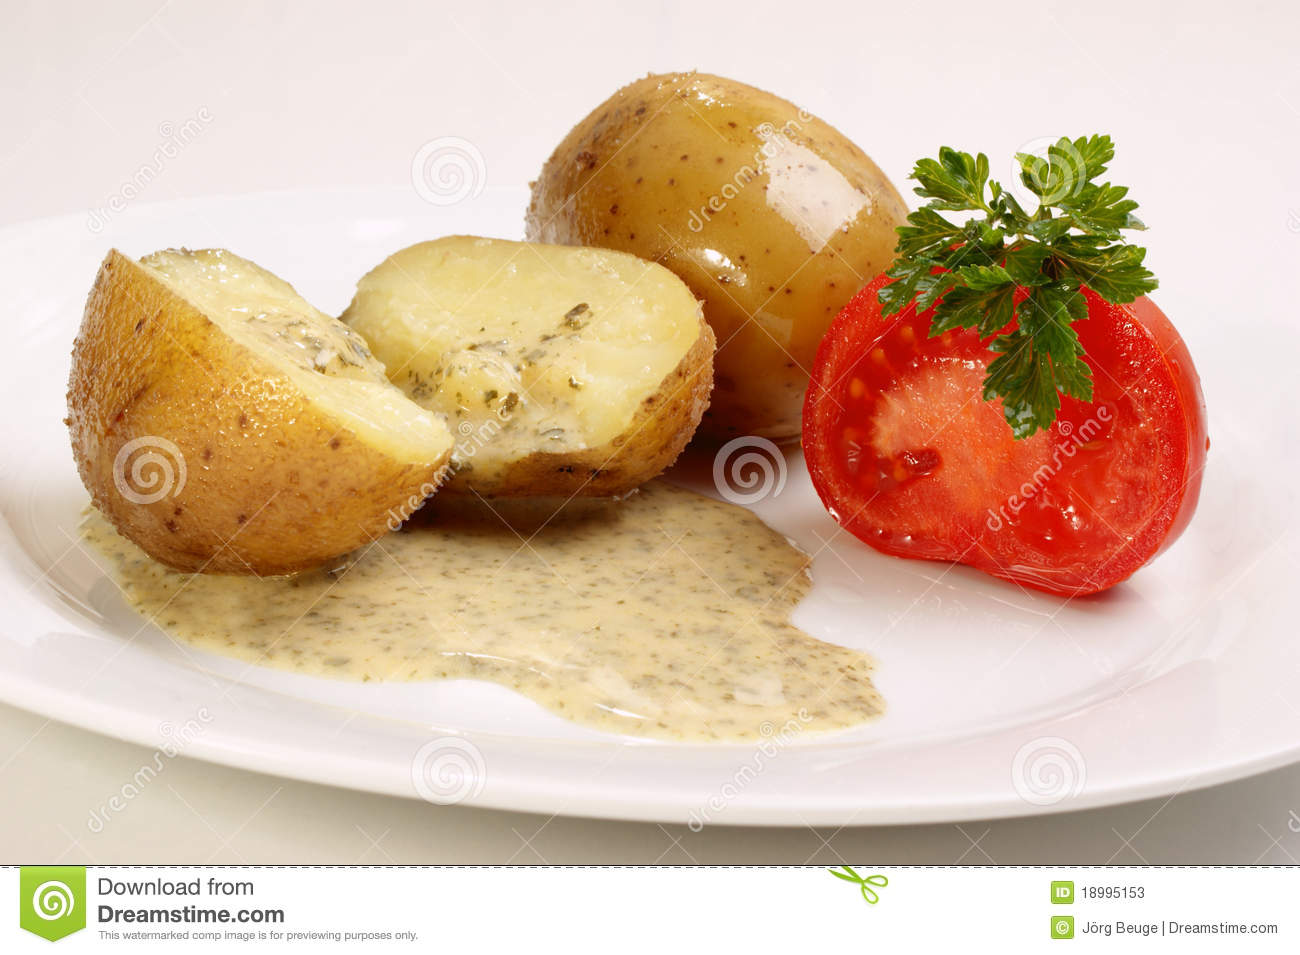boiled potatoes: (71, 83, 917, 586)
